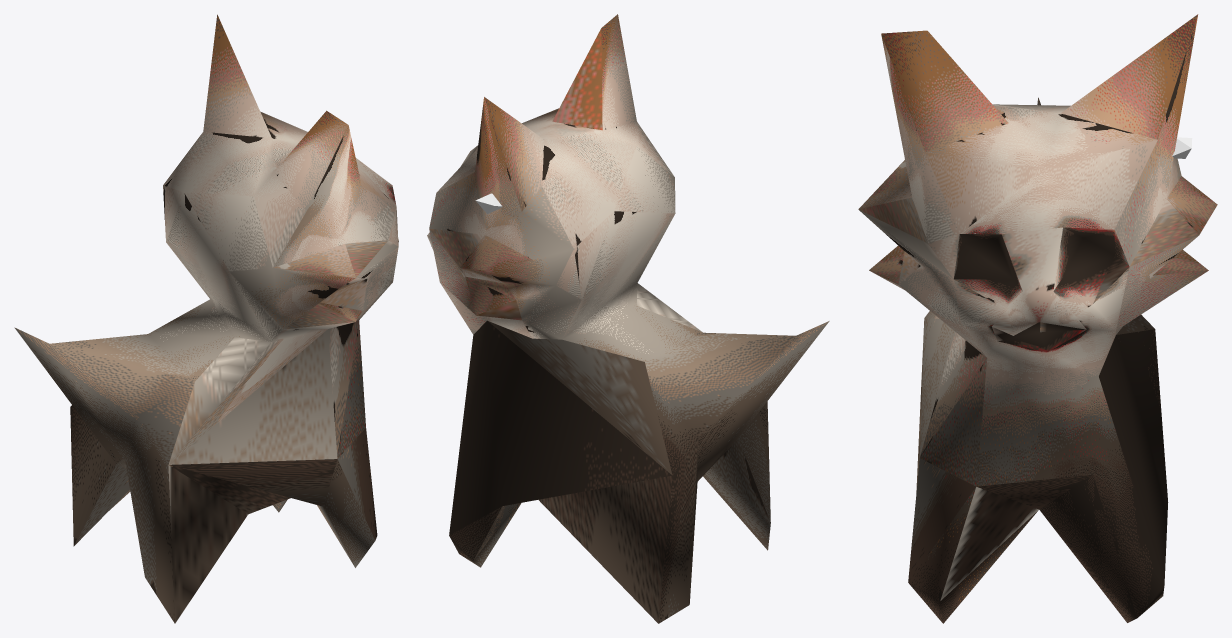
File: car.glb
3 views of the same model, side by side, from view 1: azimuth 30°, elevation 25°; view 2: azimuth 150°, elevation 25°; view 3: azimuth 270°, elevation 25° (orthographic). The views are drawn at different scales.
Parts seen in each view (by area): view 1: Car2_Cube.013; view 2: Car2_Cube.013; view 3: Car2_Cube.013.
Boxes of the visible parts, x1,y1,x2,y2 form: Car2_Cube.013: (14,14,398,623); Car2_Cube.013: (427,14,829,623); Car2_Cube.013: (858,14,1217,623).
Bounding box in the file's own units: 0.9631 × 1.19 × 0.6585.
2 materials, 1 textured.
